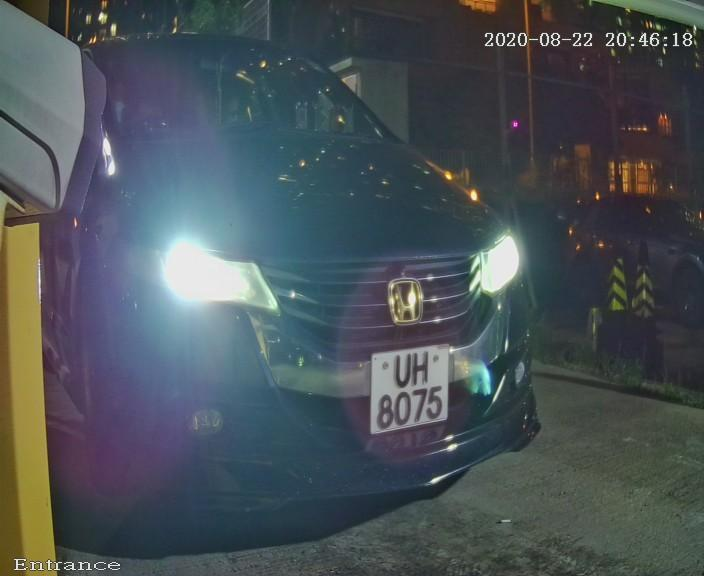Car: (23, 13, 591, 543)
License Plate: (359, 337, 463, 440)
